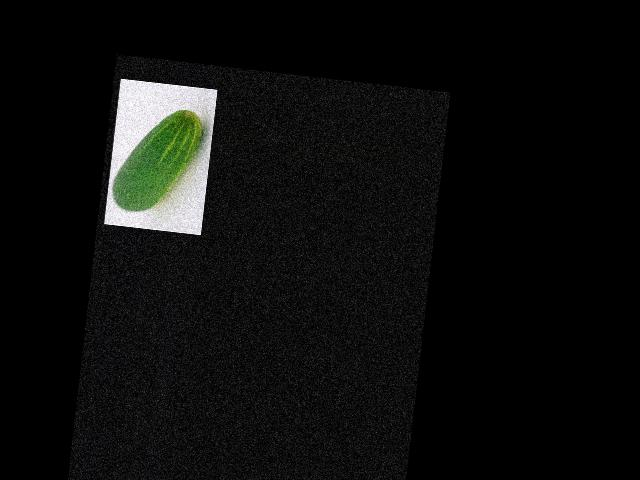cucumber: (110, 103, 204, 218)
